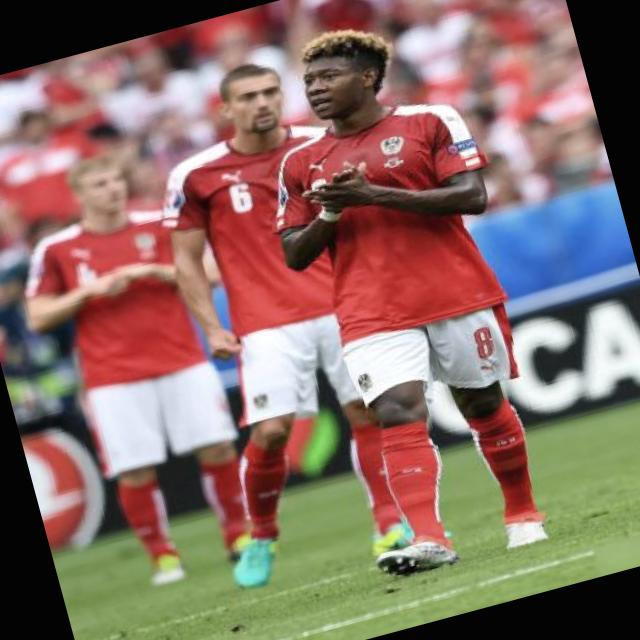Person: (216, 0, 610, 635)
